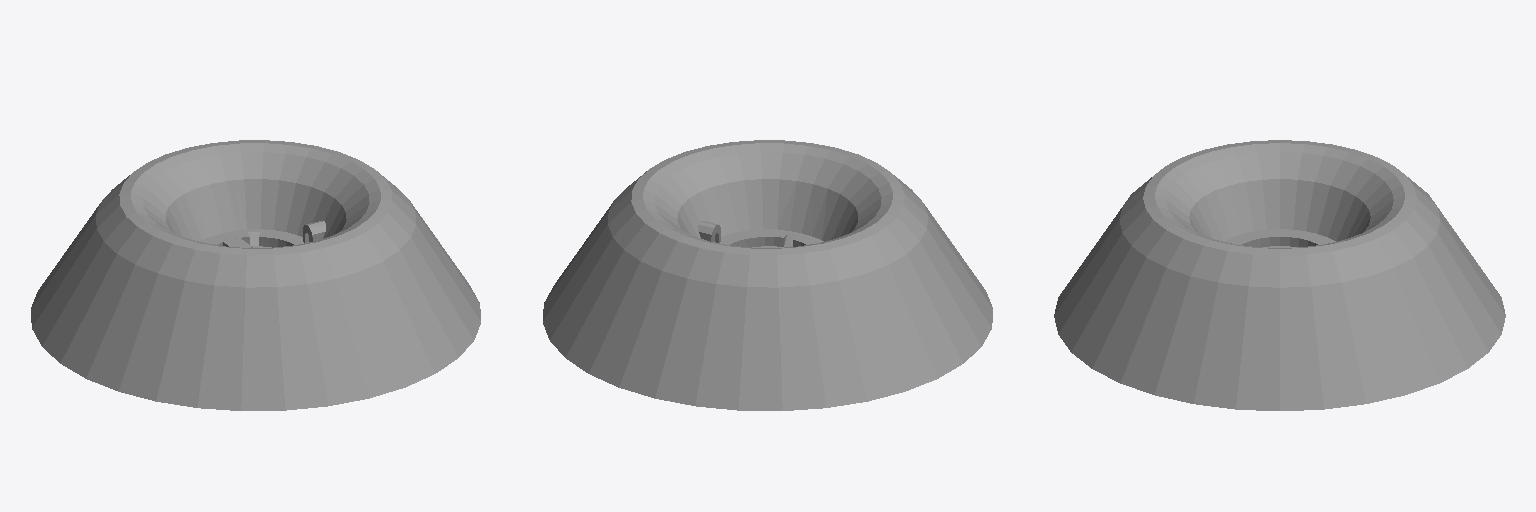
Rendered from VulcanoDungeon.obj.
The picture shows the model from 3 angles: view 1: azimuth 30°, elevation 25°; view 2: azimuth 150°, elevation 25°; view 3: azimuth 270°, elevation 25°; orthographic projection.
Visible parts, largest first — view 1: Ground_Circle; view 2: Ground_Circle; view 3: Ground_Circle.
Boxes of the visible parts, x1,y1,x2,y2 form: Ground_Circle: [31, 140, 480, 410]; Ground_Circle: [543, 140, 992, 410]; Ground_Circle: [1054, 140, 1505, 410].
Size of the model in its own units: 87.77 by 25.69 by 87.77.